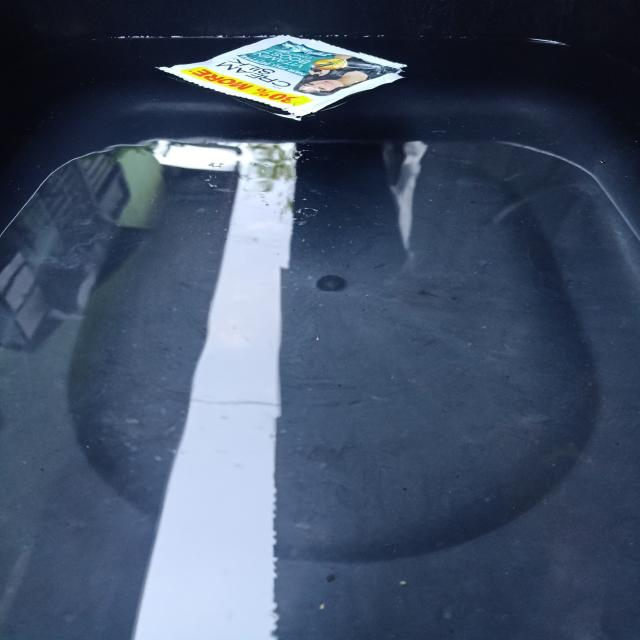Plastic Wrapper: (143, 24, 410, 127)
